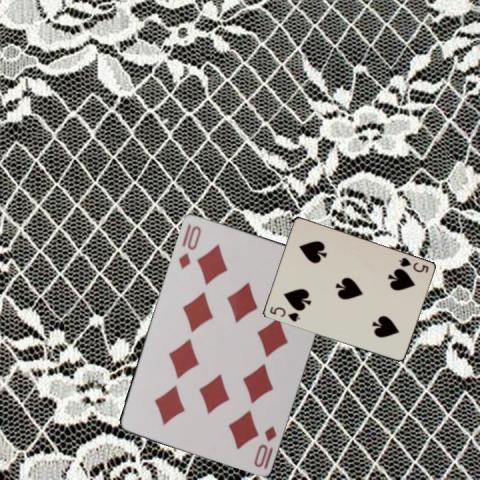10d: (175, 222, 203, 270), (251, 422, 278, 470)
5s: (395, 255, 430, 274), (267, 304, 301, 323)
